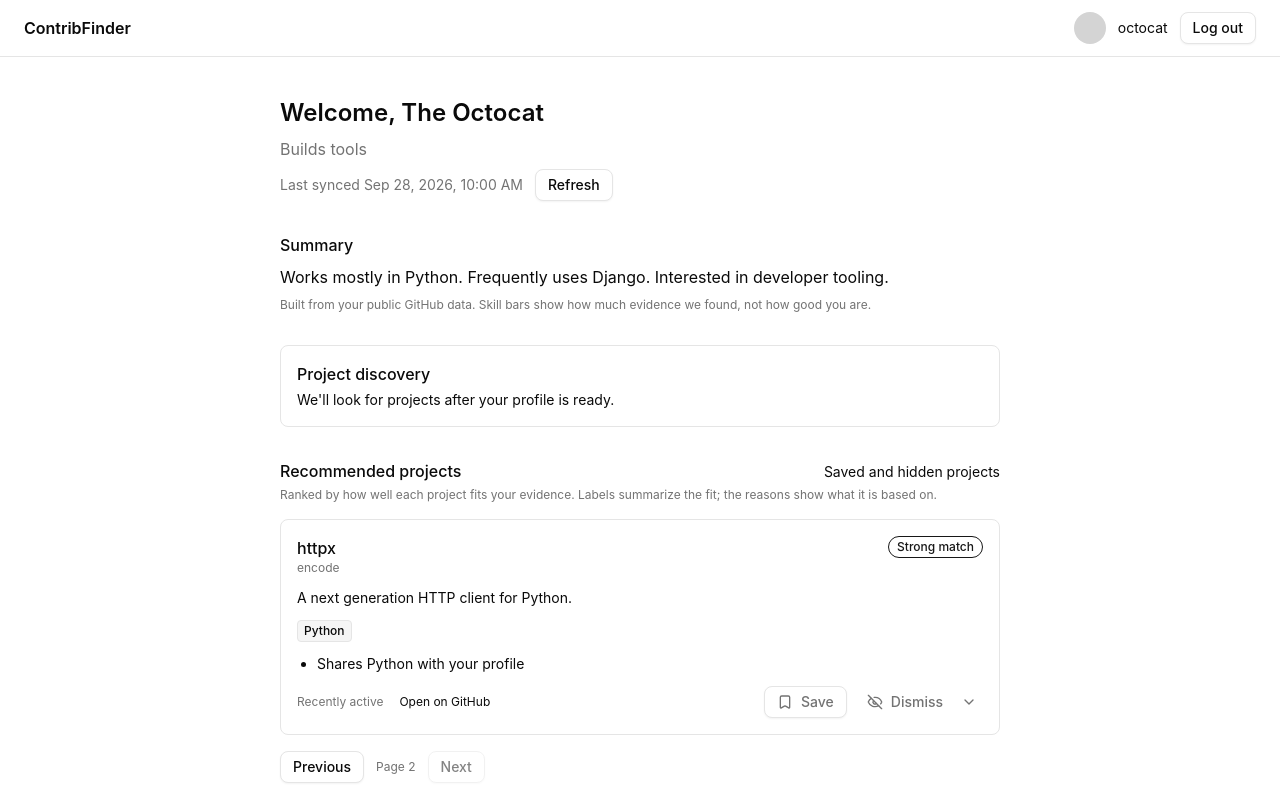
Test case: save and dismiss › moves back a page when the last card on it is dismissed
Click the button "Dismiss". click: point(905, 702)
box: [855,686,955,718]
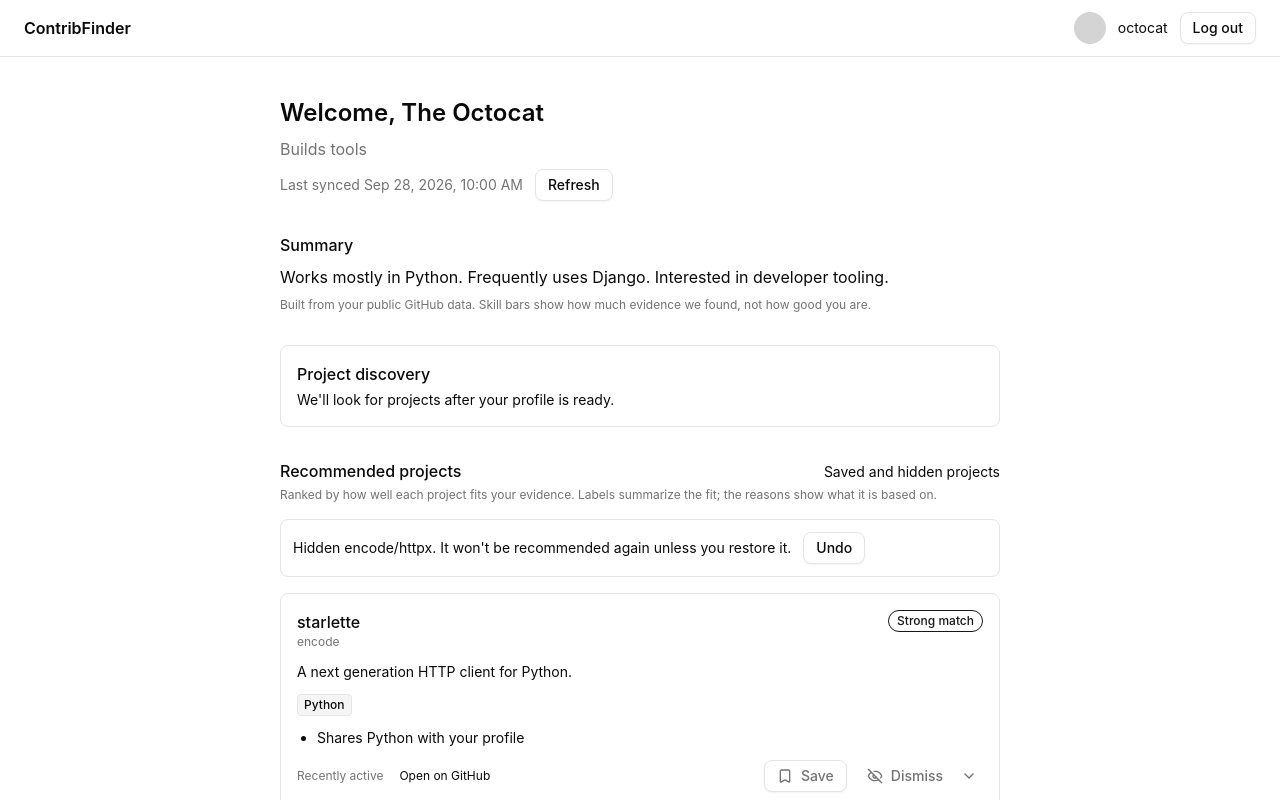
Now the text "Hidden encode/httpx" is shown, box [293,538,791,558]
